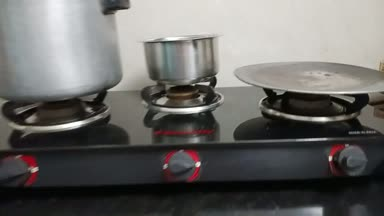flame_gas_off: (277, 91, 384, 178), (151, 83, 221, 183)
